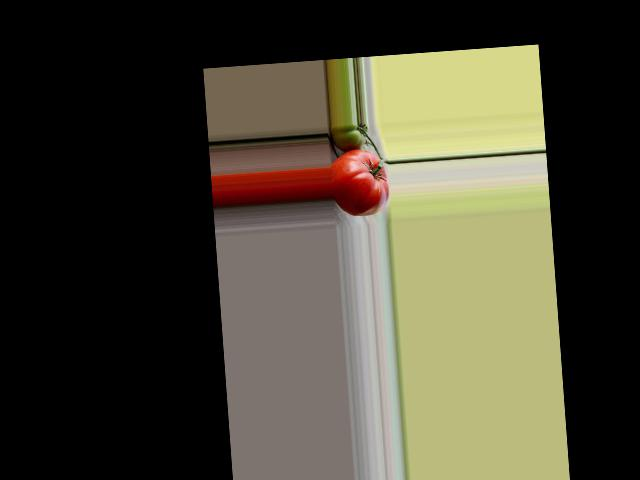tomato: (328, 147, 390, 218)
